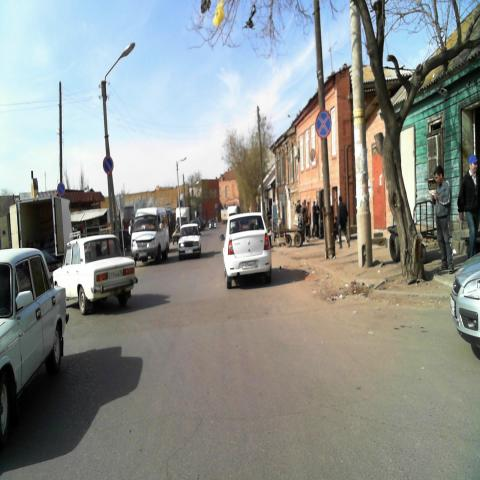3_28: (103, 156, 114, 176), (57, 182, 65, 196)
